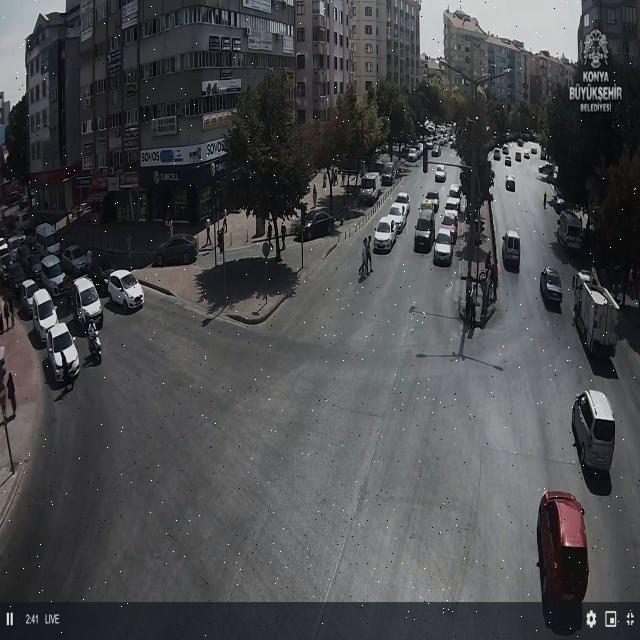Car: (525, 491, 599, 599), (572, 390, 616, 475), (45, 322, 79, 382), (31, 290, 59, 344), (152, 234, 198, 266), (294, 210, 335, 241), (39, 255, 67, 297), (434, 226, 461, 269), (557, 211, 583, 253), (60, 244, 94, 276), (373, 217, 399, 253), (17, 279, 41, 317), (540, 266, 563, 305), (414, 212, 436, 251), (357, 172, 382, 203), (502, 230, 521, 270), (3, 259, 28, 289), (386, 202, 409, 234), (21, 249, 45, 279), (438, 214, 458, 244), (380, 162, 398, 185), (424, 190, 441, 213), (443, 197, 461, 218), (394, 192, 410, 208), (448, 183, 462, 199), (434, 165, 447, 182), (407, 147, 421, 162), (505, 174, 516, 191), (538, 163, 552, 174), (431, 144, 441, 157), (425, 140, 434, 150), (493, 149, 501, 160), (440, 138, 449, 146), (502, 145, 508, 154), (524, 150, 530, 159), (530, 147, 537, 154), (517, 139, 524, 146)
Van: (69, 276, 103, 328), (106, 269, 144, 310)
